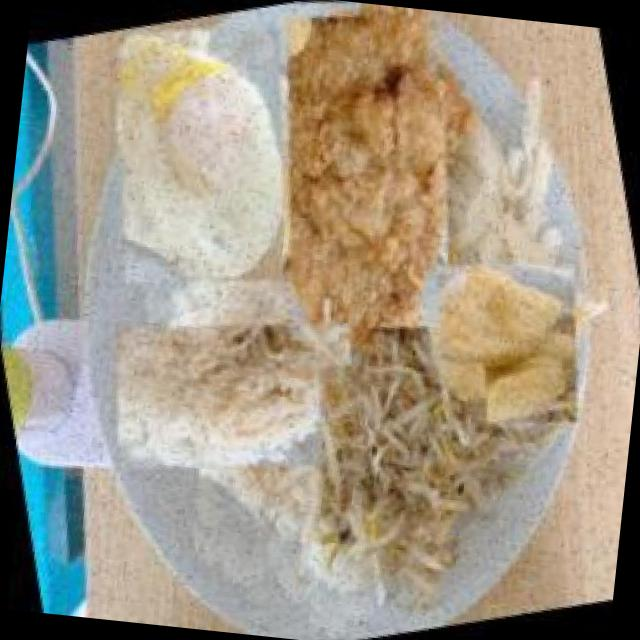chicken_nuggets: (394, 230, 618, 454)
fried_chicken: (207, 0, 522, 367)
fried_eggs: (56, 0, 345, 321)
mung_bean_sprouts: (263, 320, 544, 630)
rice: (91, 251, 378, 537)
